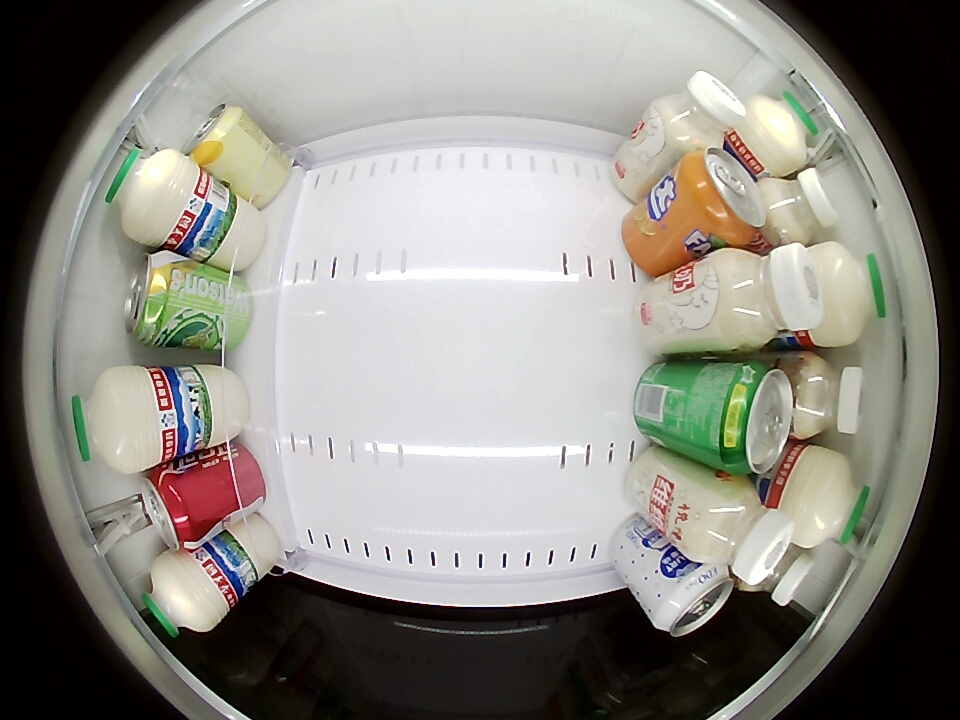fenda: (678, 148, 766, 247)
kele: (139, 469, 201, 550)
liziyuan: (68, 366, 167, 474), (103, 145, 203, 249), (773, 445, 871, 549), (802, 242, 889, 347), (143, 550, 232, 638), (734, 92, 815, 176)
mangguoxiaolao: (182, 103, 245, 166)
quchenshixiangcao: (124, 252, 179, 346)
rusuanjunqishui: (649, 560, 735, 637)
weiweidounai: (711, 243, 826, 353), (682, 475, 794, 585), (651, 71, 746, 153), (791, 353, 865, 439), (760, 168, 839, 246), (748, 545, 814, 607)
xuebi2: (706, 360, 794, 474)
